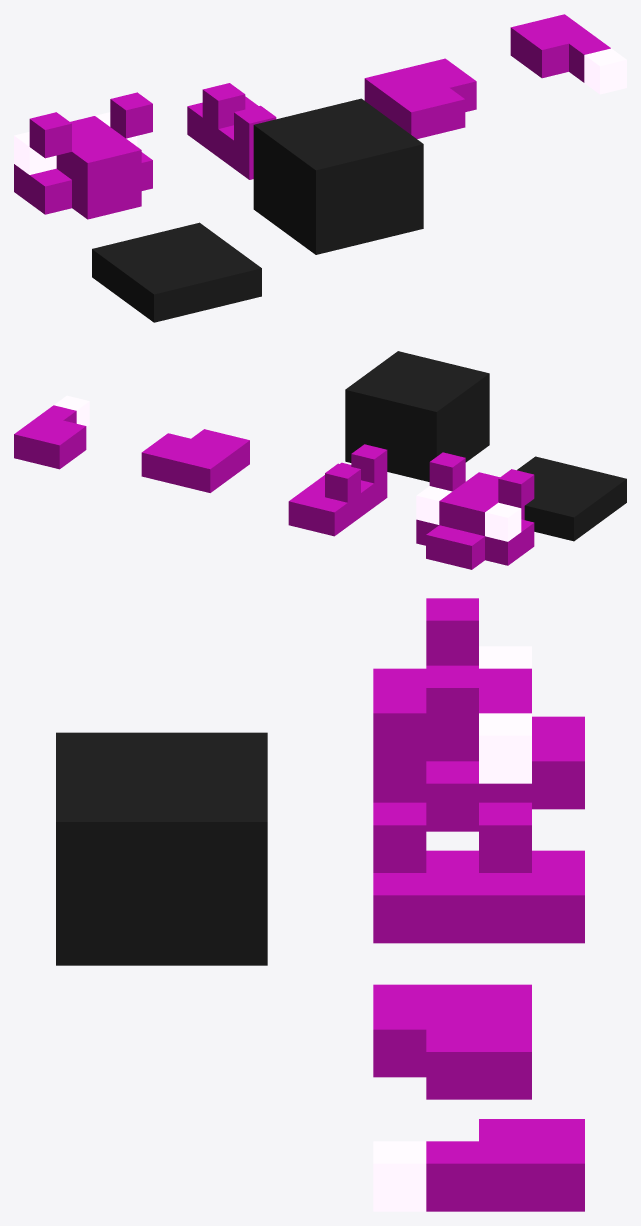
The model's file is dragon_kit.glb.
3 views of the same model, one above another, from view 1: azimuth 30°, elevation 25°; view 2: azimuth 150°, elevation 25°; view 3: azimuth 270°, elevation 25° (orthographic). The views are drawn at different scales.
Visible parts, largest first — view 1: wall, head, floor, turn, tail, straight; view 2: wall, head, floor, straight, turn, tail; view 3: wall, head, straight, tail, turn.
Boxes of the visible parts, left/top/right/bottom form: wall: left=253, top=98, right=423, bottom=254; head: left=14, top=92, right=152, bottom=219; floor: left=92, top=222, right=261, bottom=322; turn: left=364, top=58, right=476, bottom=138; tail: left=510, top=14, right=626, bottom=94; straight: left=187, top=83, right=276, bottom=179; wall: left=345, top=351, right=489, bottom=481; head: left=416, top=452, right=534, bottom=569; floor: left=517, top=456, right=626, bottom=541; straight: left=288, top=444, right=387, bottom=536; turn: left=141, top=429, right=249, bottom=492; tail: left=14, top=395, right=89, bottom=469; wall: left=56, top=732, right=267, bottom=965; head: left=373, top=598, right=584, bottom=831; straight: left=373, top=802, right=584, bottom=943; tail: left=373, top=1119, right=584, bottom=1211; turn: left=373, top=984, right=531, bottom=1099.
Bounding box in the file's own units: 5.25 × 1 × 2.5.
